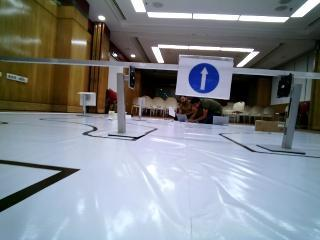straight: (179, 54, 231, 100)
